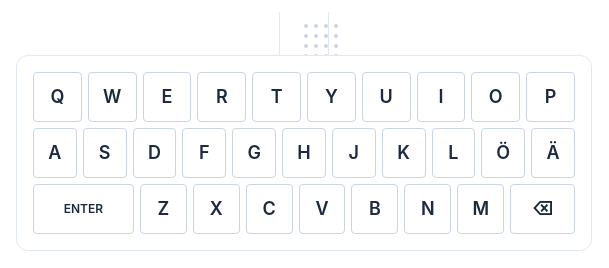
Test: SanuriGame › shows an error for a too-short guess and does not advance the board
What coordinates should you click on to do the following:
click the button "K"
I would click on:
 (404, 153)
Its box is [382,128,426,178].
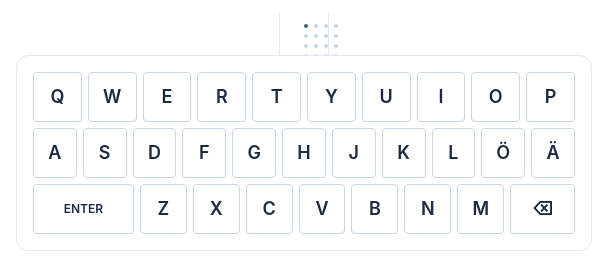
What coordinates should you click on to do the following:
click the button with aria-label "Tarkista arvaus"
I would click on:
 (83, 209)
Its box is [33,184,134,234].
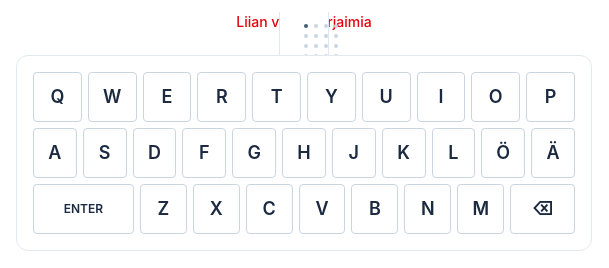
Check: the message reads "Liian vähän kirjaimia", box [236,13,372,30]
